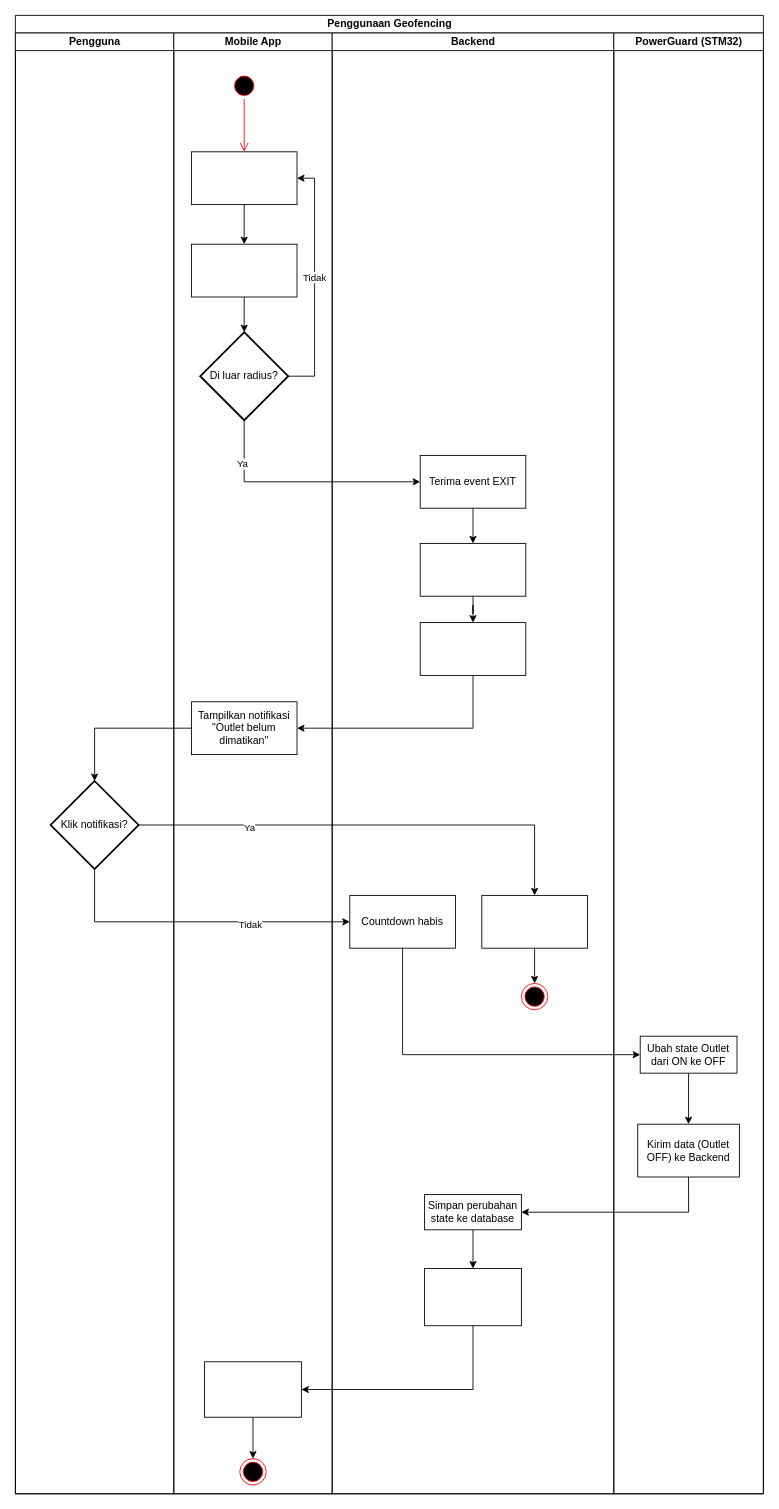
Some shapes in this 779 by 1509 pixel diagram are drawn without their labels. Each missing label, with the centre of its shape:
Ambil lokasi terkini: (244,270)
Hentikan countdown: (534,921)
Kirim notifikasi "Outlet belum dimatikan": (472,569)
Kirim update status outlet ke aplikasi: (472,1297)
Memantau lokasi GPS: (244,178)
Mulai countdown (default = 5 menit): (472,648)
Tampilkan status outlet tidak aktif (OFF): (252,1389)
